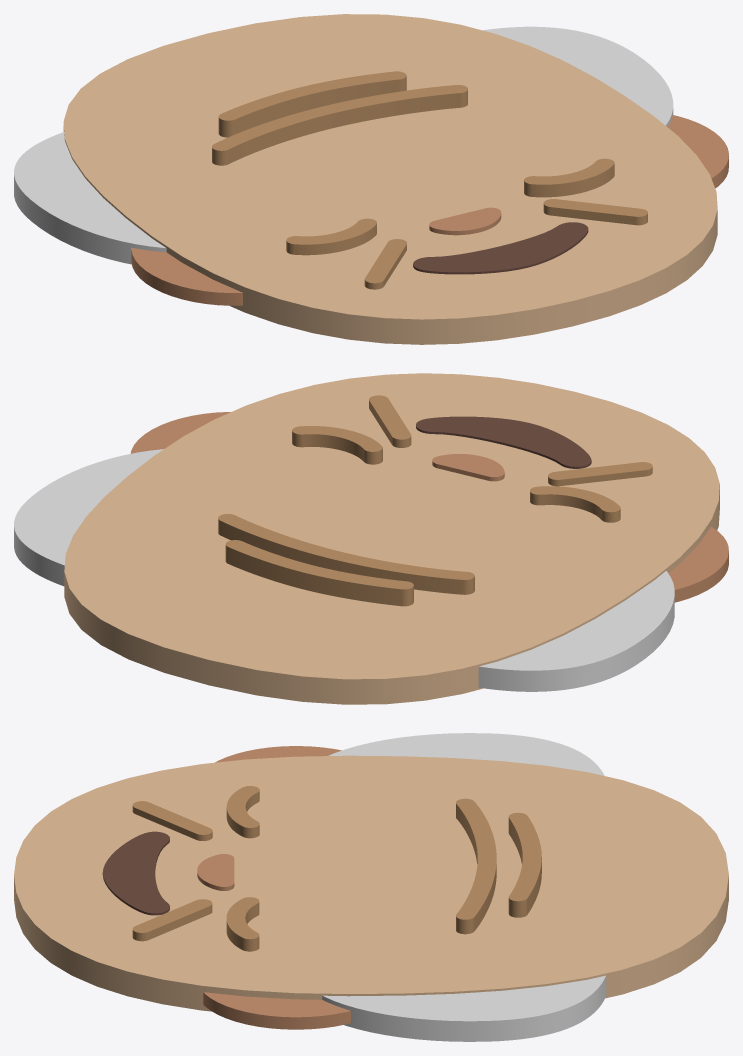
Rendered from emoji_u1f474_1f3fc.glb.
3 renders of one model, top to bottom at view 1: azimuth 30°, elevation 25°; view 2: azimuth 150°, elevation 25°; view 3: azimuth 270°, elevation 25°, orthographic. The views are drawn at different scales.
Parts seen in each view (by area): view 1: emoji_u1f474_1f3fc; view 2: emoji_u1f474_1f3fc; view 3: emoji_u1f474_1f3fc.
Boxes of the visible parts, x1,y1,x2,y2 form: emoji_u1f474_1f3fc: (14,14,728,344); emoji_u1f474_1f3fc: (14,373,728,704); emoji_u1f474_1f3fc: (14,733,728,1041).
Bounding box in the file's own units: 0.0299 × 0.0028 × 0.0314.
